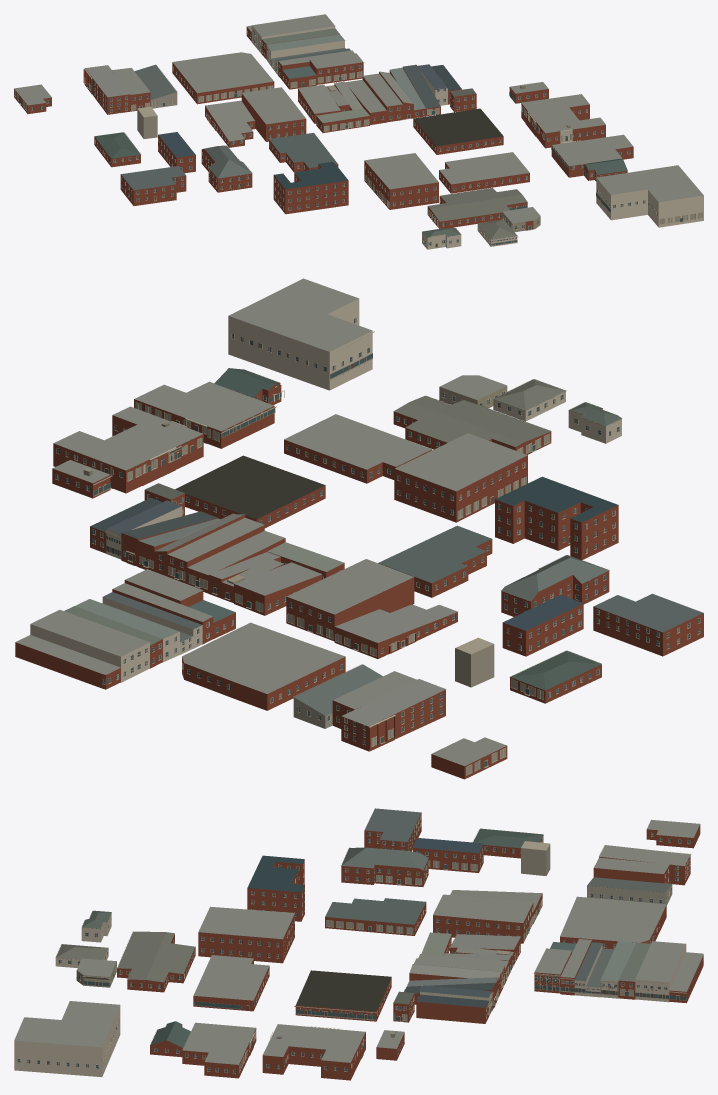
3 renders of one model, top to bottom at view 1: azimuth 30°, elevation 25°; view 2: azimuth 150°, elevation 25°; view 3: azimuth 270°, elevation 25°, orthographic. The views are drawn at different scales.
Parts seen in each view (by area): view 1: -1_0_269020722_2, -1_0_269020755_3; view 2: -1_0_269020722_2, -1_0_269020755_3; view 3: -1_0_269020722_2, -1_0_269020755_3, -1_0_599923413_81.
Boxes of the visible parts, <box> form: -1_0_269020722_2: <box>14,14,703,247</box>; -1_0_269020755_3: <box>251,25,703,249</box>; -1_0_269020722_2: <box>15,278,703,779</box>; -1_0_269020755_3: <box>30,298,621,682</box>; -1_0_269020722_2: <box>14,808,703,1080</box>; -1_0_269020755_3: <box>14,913,686,1077</box>; -1_0_599923413_81: <box>587,884,672,905</box>.
Bounding box in the file's own units: 263 × 17.78 × 305.
